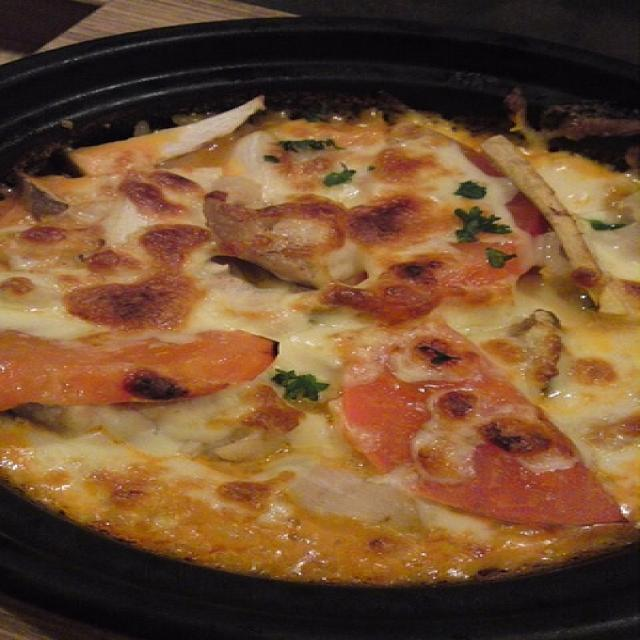米饭主食: (28, 64, 623, 604)
